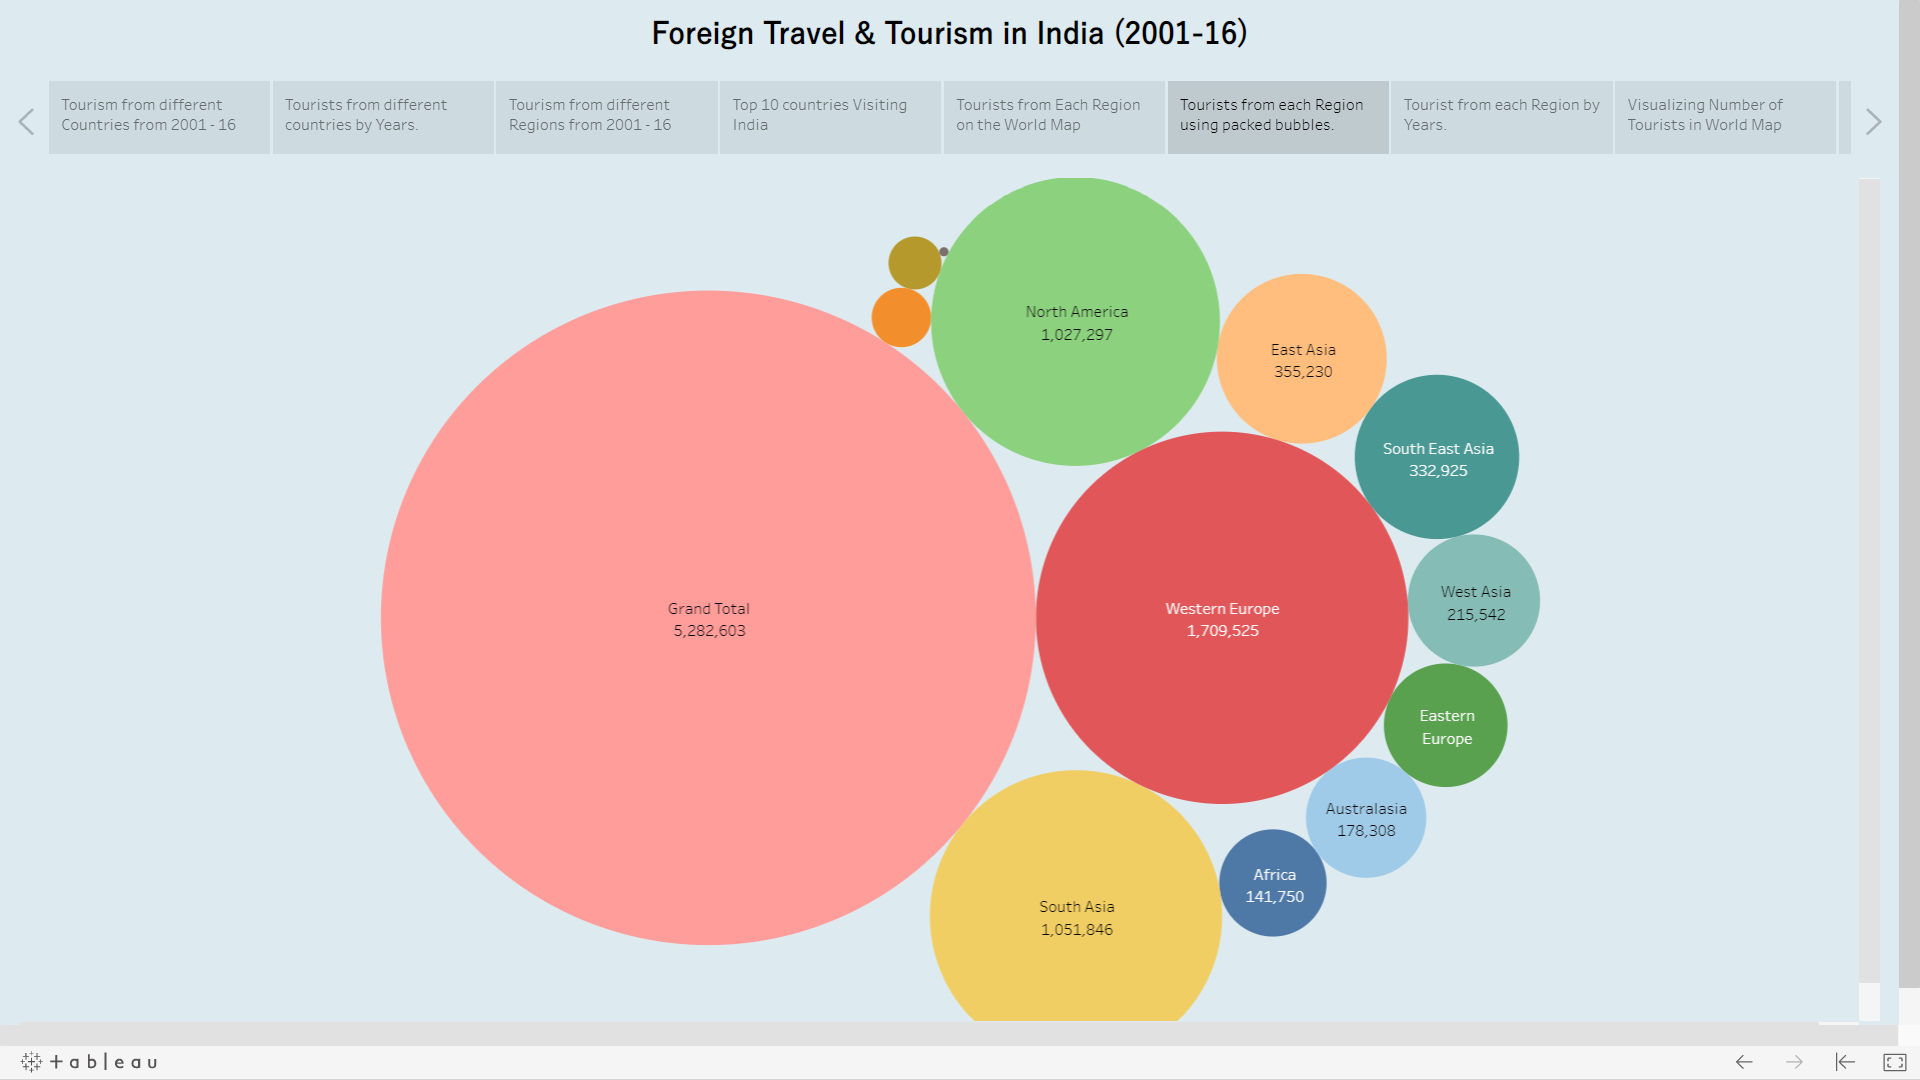

The dashboard page shown, as its layout file describes it:
{"tool":"tableau","page":{"name":"By Region","canvas":[1520,700],"ordinal":1},"visuals":[{"type":"worksheet","box":[0,0,1520,700]},{"type":"worksheet","param":"[Parameters].[Parameter 1]","box":[1261.6,7,243.2,48.1]},{"type":"worksheet","param":"horz","box":[8,8,1504,684]},{"type":"worksheet","box":[8,8,1504,684]},{"type":"worksheet","title":"Tourists from each Region","mark":"Automatic","rows":["Calculation_721420399666532353"],"cols":["F1"],"box":[8,8,1504,342]},{"type":"worksheet","title":"Most Visitors by Regions","mark":"Circle","box":[8,350,1504,342]},{"type":"worksheet","title":"Most Visitors by Regions","mark":"Circle","param":"[federated.0m8pxyp08y5cd51do6m1t1b7czdd].[none:F1:nk]","box":[1247.9,392,270.6,264.2]}]}

Visuals, with their boxes on the page's 1520x700 design canvas (x1, y1, x2, y2). These are canvas units, not pixel positions in the 1920x1080 screenshot, which may show the page scaled, cropped or inside an application window:
worksheet: (0, 0, 1520, 700)
worksheet: (1262, 7, 1505, 55)
worksheet: (8, 8, 1512, 692)
worksheet: (8, 8, 1512, 692)
"Tourists from each Region" worksheet: (8, 8, 1512, 350)
"Most Visitors by Regions" worksheet (Circle marks): (8, 350, 1512, 692)
"Most Visitors by Regions" worksheet (Circle marks): (1248, 392, 1518, 656)
